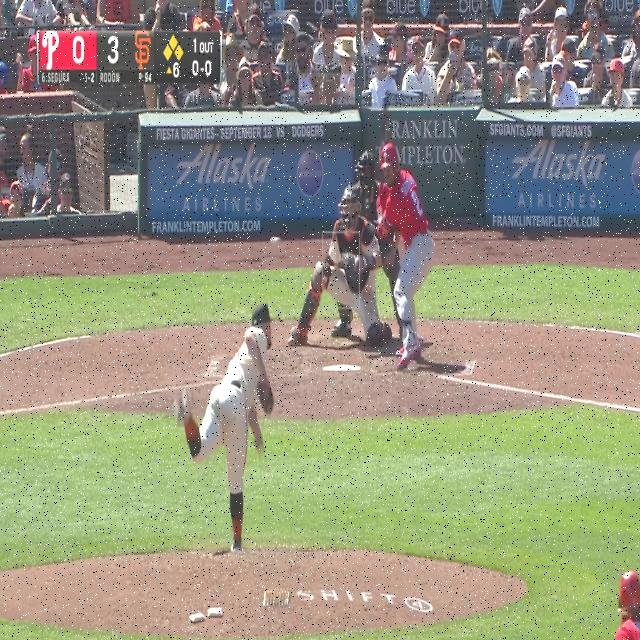baseball: (270, 236, 281, 248)
